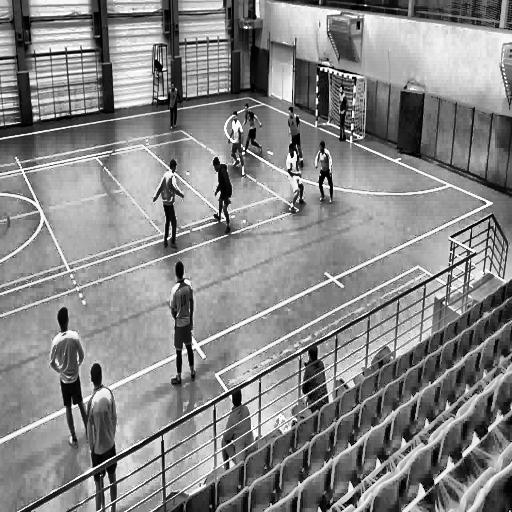ball: (169, 233, 175, 244)
player: (151, 159, 184, 251), (285, 144, 305, 217), (314, 140, 335, 207), (227, 111, 247, 178), (241, 103, 264, 160), (286, 104, 304, 168)
